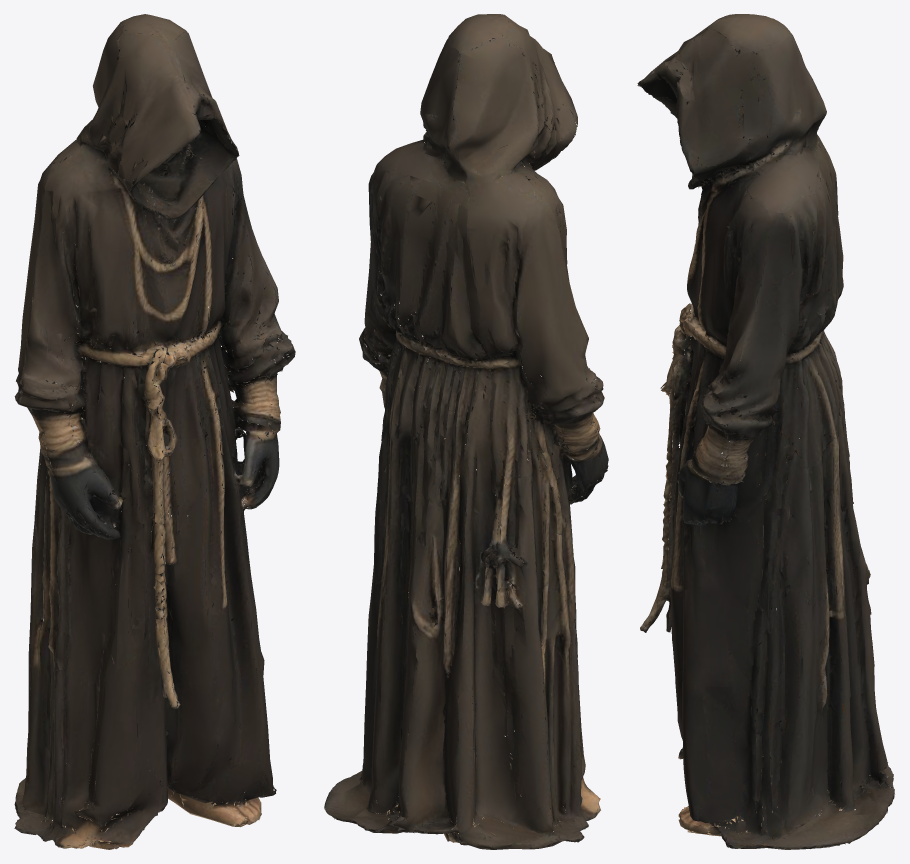
Rendered from cultist.glb.
The picture shows the model from 3 angles, left to right: view 1: azimuth 30°, elevation 25°; view 2: azimuth 150°, elevation 25°; view 3: azimuth 270°, elevation 25°; orthographic projection. The views are drawn at different scales.
Parts seen in each view (by area): view 1: Mesh_0; view 2: Mesh_0; view 3: Mesh_0.
Part boxes in pixels (left/top/right/bottom): Mesh_0: left=14, top=14, right=295, bottom=849; Mesh_0: left=324, top=14, right=608, bottom=849; Mesh_0: left=637, top=14, right=894, bottom=849.
Size of the model in its own units: 0.6767 by 2 by 0.6028.
1 material, 1 textured.
